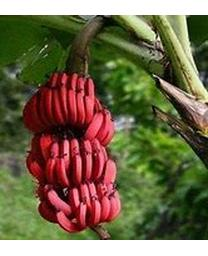banana: (19, 71, 122, 232)
